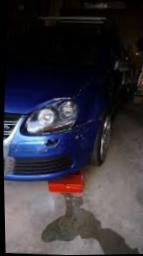Bumper: (40, 132, 79, 160)
